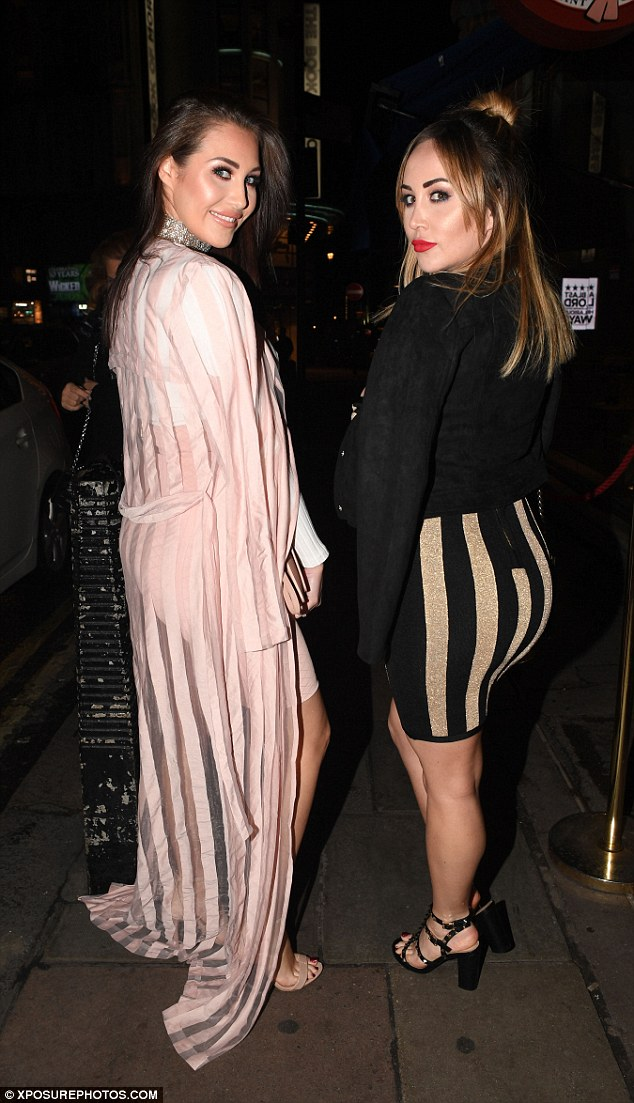Person: (85, 73, 357, 1089), (326, 87, 573, 1005)
